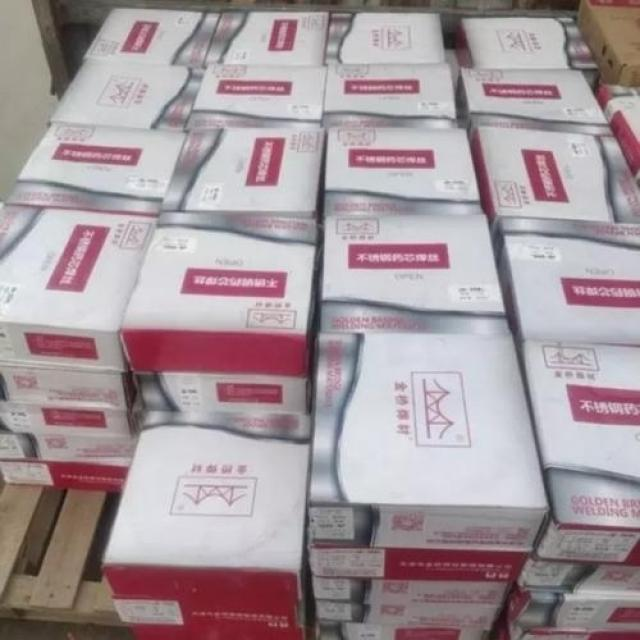box: (306, 333, 547, 549), (101, 412, 312, 602), (118, 210, 319, 378), (517, 342, 640, 567), (0, 204, 157, 372), (323, 214, 511, 332), (490, 218, 640, 342), (6, 122, 188, 212), (468, 128, 640, 221), (160, 131, 325, 215), (325, 129, 481, 215), (50, 58, 207, 131), (453, 18, 600, 91), (456, 68, 612, 132), (188, 64, 326, 131), (324, 63, 457, 128), (308, 547, 529, 584), (87, 9, 220, 68), (113, 595, 297, 631), (136, 374, 308, 412), (207, 12, 330, 65), (326, 12, 445, 65), (507, 585, 640, 628), (577, 0, 640, 84), (312, 579, 511, 605), (315, 600, 502, 627), (1, 401, 131, 438), (596, 82, 640, 187), (516, 559, 640, 593), (0, 461, 129, 493), (35, 435, 138, 465), (316, 622, 490, 639), (129, 626, 303, 639), (508, 627, 640, 639), (0, 431, 38, 462)
